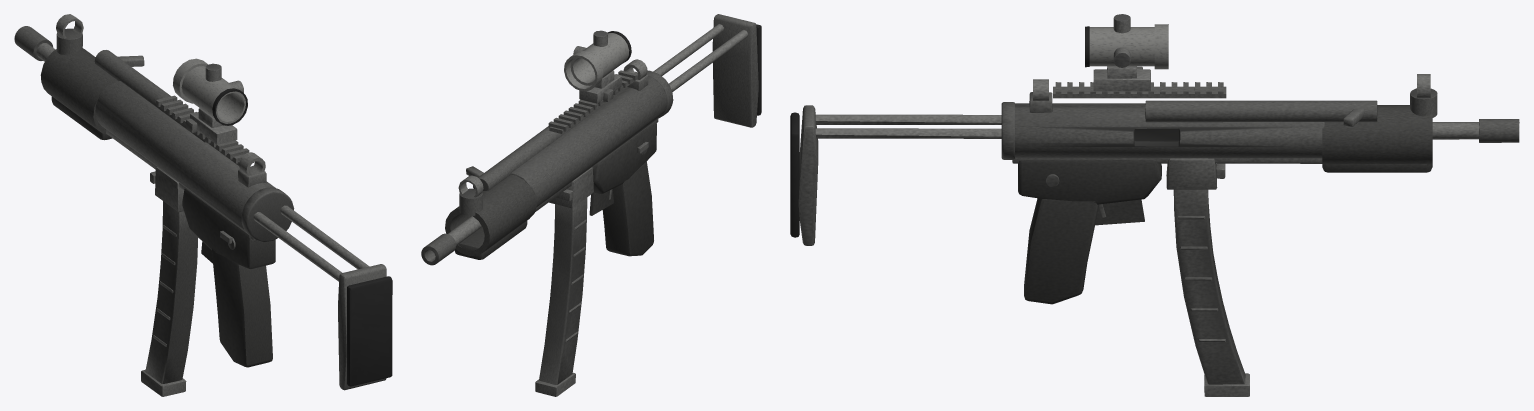
The model's file is SM_WeaponSMG_LOD1.fbx.
The picture shows the model from 3 angles, left to right: view 1: azimuth 30°, elevation 25°; view 2: azimuth 150°, elevation 25°; view 3: azimuth 270°, elevation 25°; orthographic projection. The views are drawn at different scales.
Visible parts, largest first — view 1: SM_WeaponSMG_LOD1; view 2: SM_WeaponSMG_LOD1; view 3: SM_WeaponSMG_LOD1.
Boxes of the visible parts, x1,y1,x2,y2 form: SM_WeaponSMG_LOD1: (14, 14, 392, 396); SM_WeaponSMG_LOD1: (421, 14, 761, 396); SM_WeaponSMG_LOD1: (790, 14, 1519, 396).
Bounding box in the file's own units: 0.0673 × 0.356 × 0.6285.
Materials: 1 (1 with a texture image).
